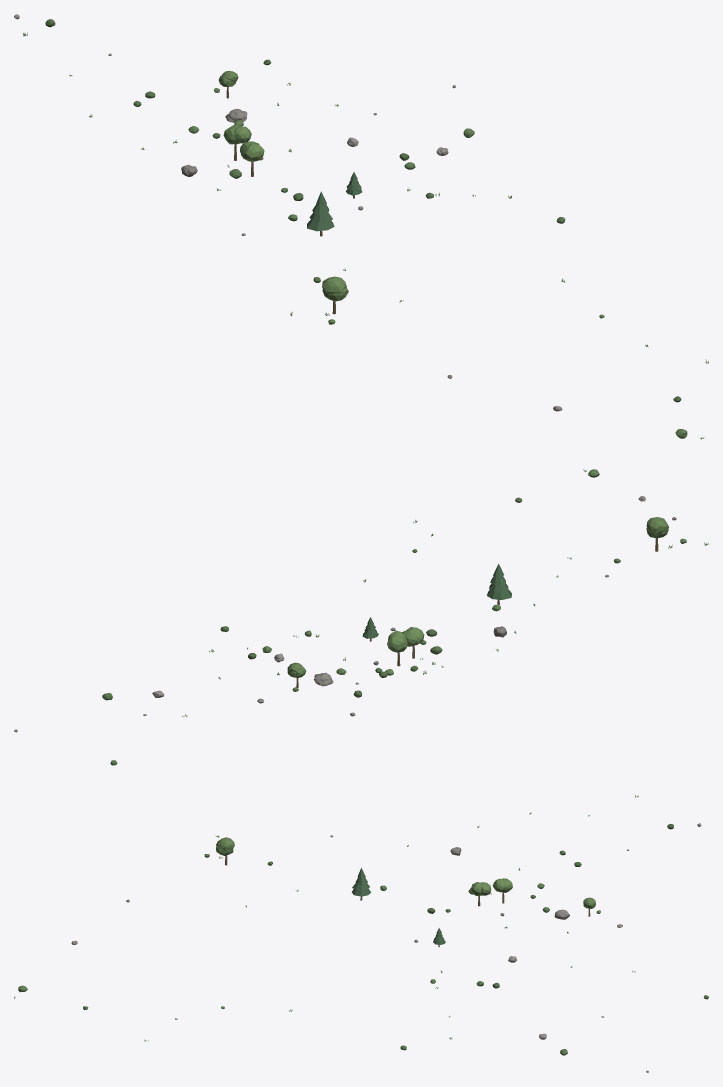
Rendered from arch_land_scatter_c21_19.glb.
3 renders of one model, top to bottom at view 1: azimuth 30°, elevation 25°; view 2: azimuth 150°, elevation 25°; view 3: azimuth 270°, elevation 25°, orthographic. The views are drawn at different scales.
Parts seen in each view (by area): view 1: arch_land_scatter_c21_19; view 2: arch_land_scatter_c21_19; view 3: arch_land_scatter_c21_19.
Boxes of the visible parts, <box> form: arch_land_scatter_c21_19: <box>14,14,708,439</box>; arch_land_scatter_c21_19: <box>14,469,708,765</box>; arch_land_scatter_c21_19: <box>14,795,708,1072</box>.
Size of the model in its own units: 119 by 41.97 by 214.
